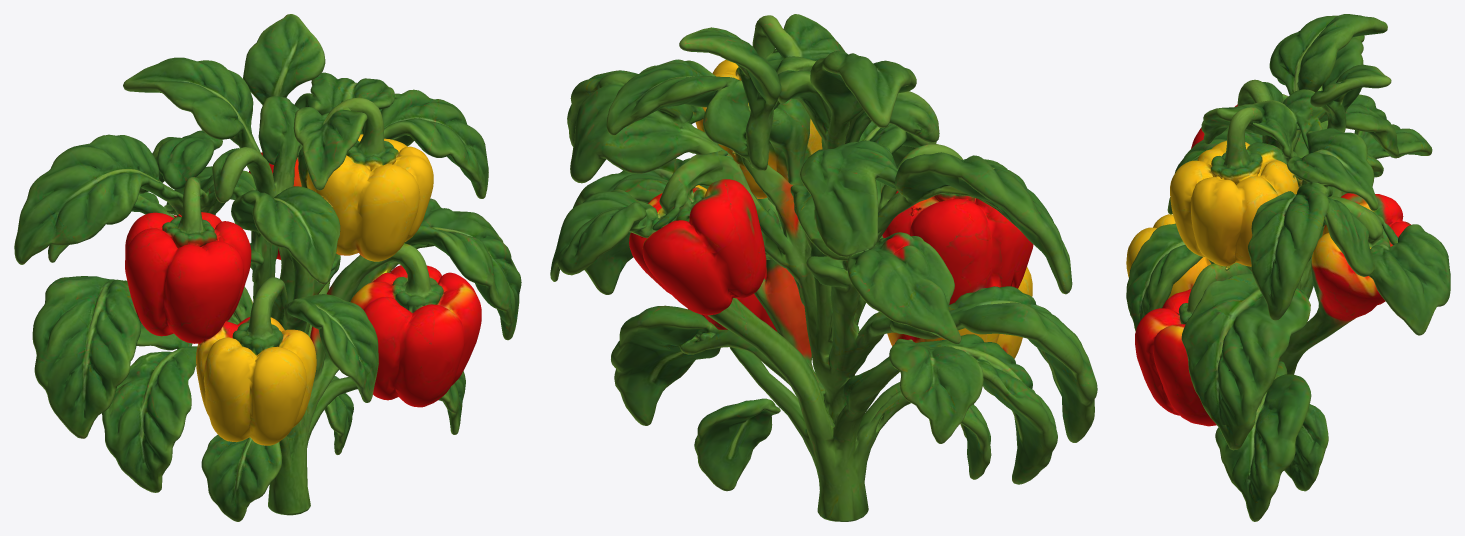
File: pepper-mature.glb
3 views of the same model, side by side, from view 1: azimuth 30°, elevation 25°; view 2: azimuth 150°, elevation 25°; view 3: azimuth 270°, elevation 25° (orthographic). The views are drawn at different scales.
Bounding box in the file's own units: 1.9 × 1.7 × 1.17.
Materials: 1 (1 with a texture image).
